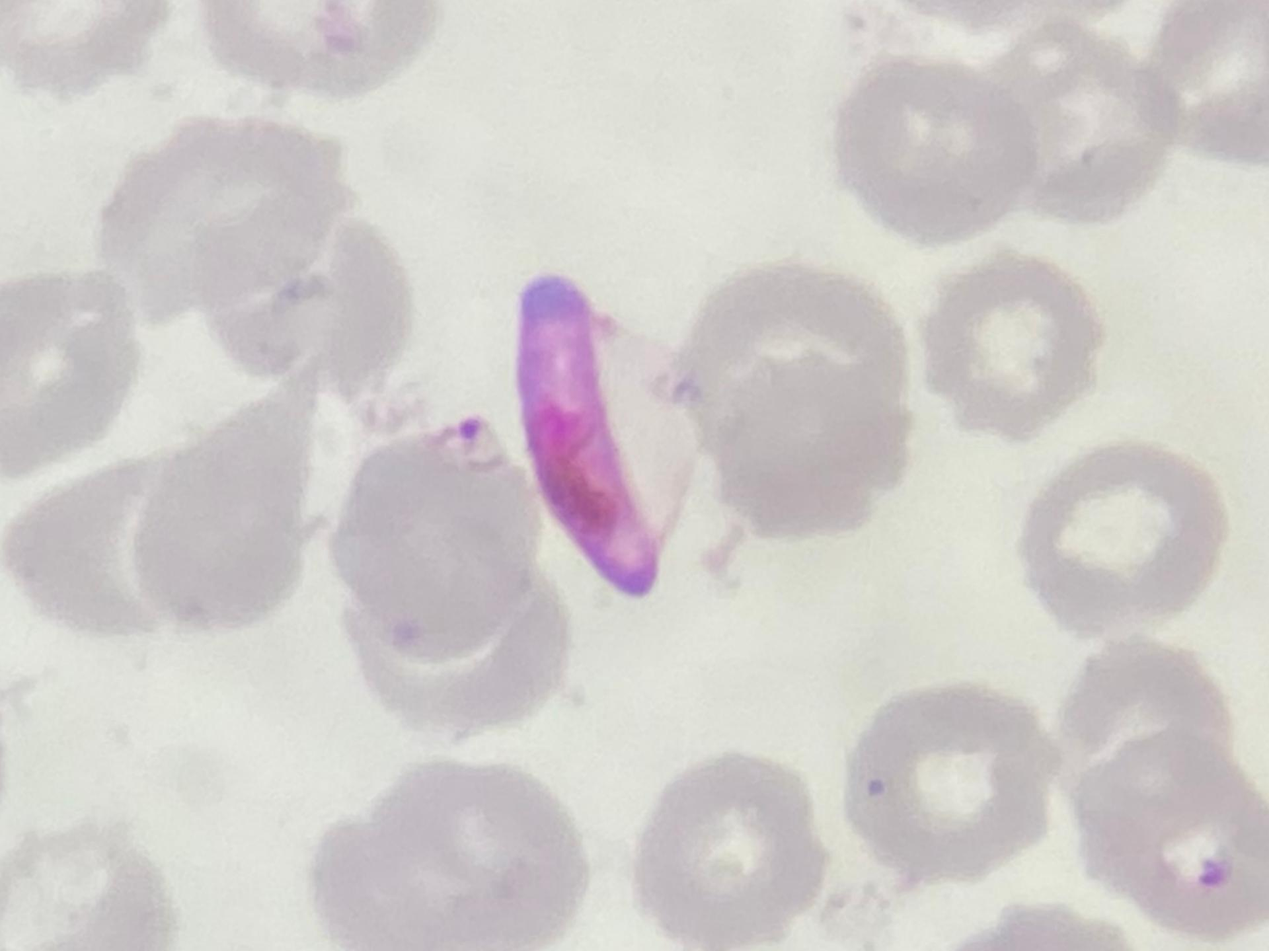Infected: (520, 266, 707, 592)
Uninfected: (692, 266, 910, 543), (304, 752, 590, 951), (334, 423, 541, 660), (104, 118, 348, 317), (134, 374, 318, 625), (851, 679, 1054, 882), (995, 32, 1197, 226), (1024, 446, 1227, 635), (834, 61, 1033, 251), (1082, 743, 1269, 938), (641, 752, 824, 951), (927, 256, 1110, 446), (0, 271, 137, 468), (1069, 646, 1239, 799)
